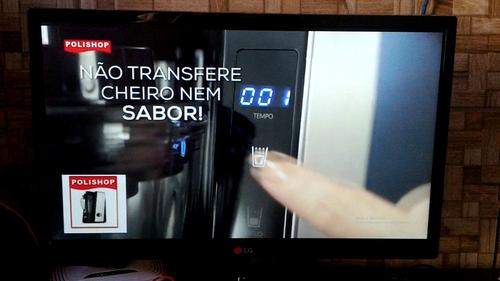Polishop #1: (63, 173, 127, 232)
